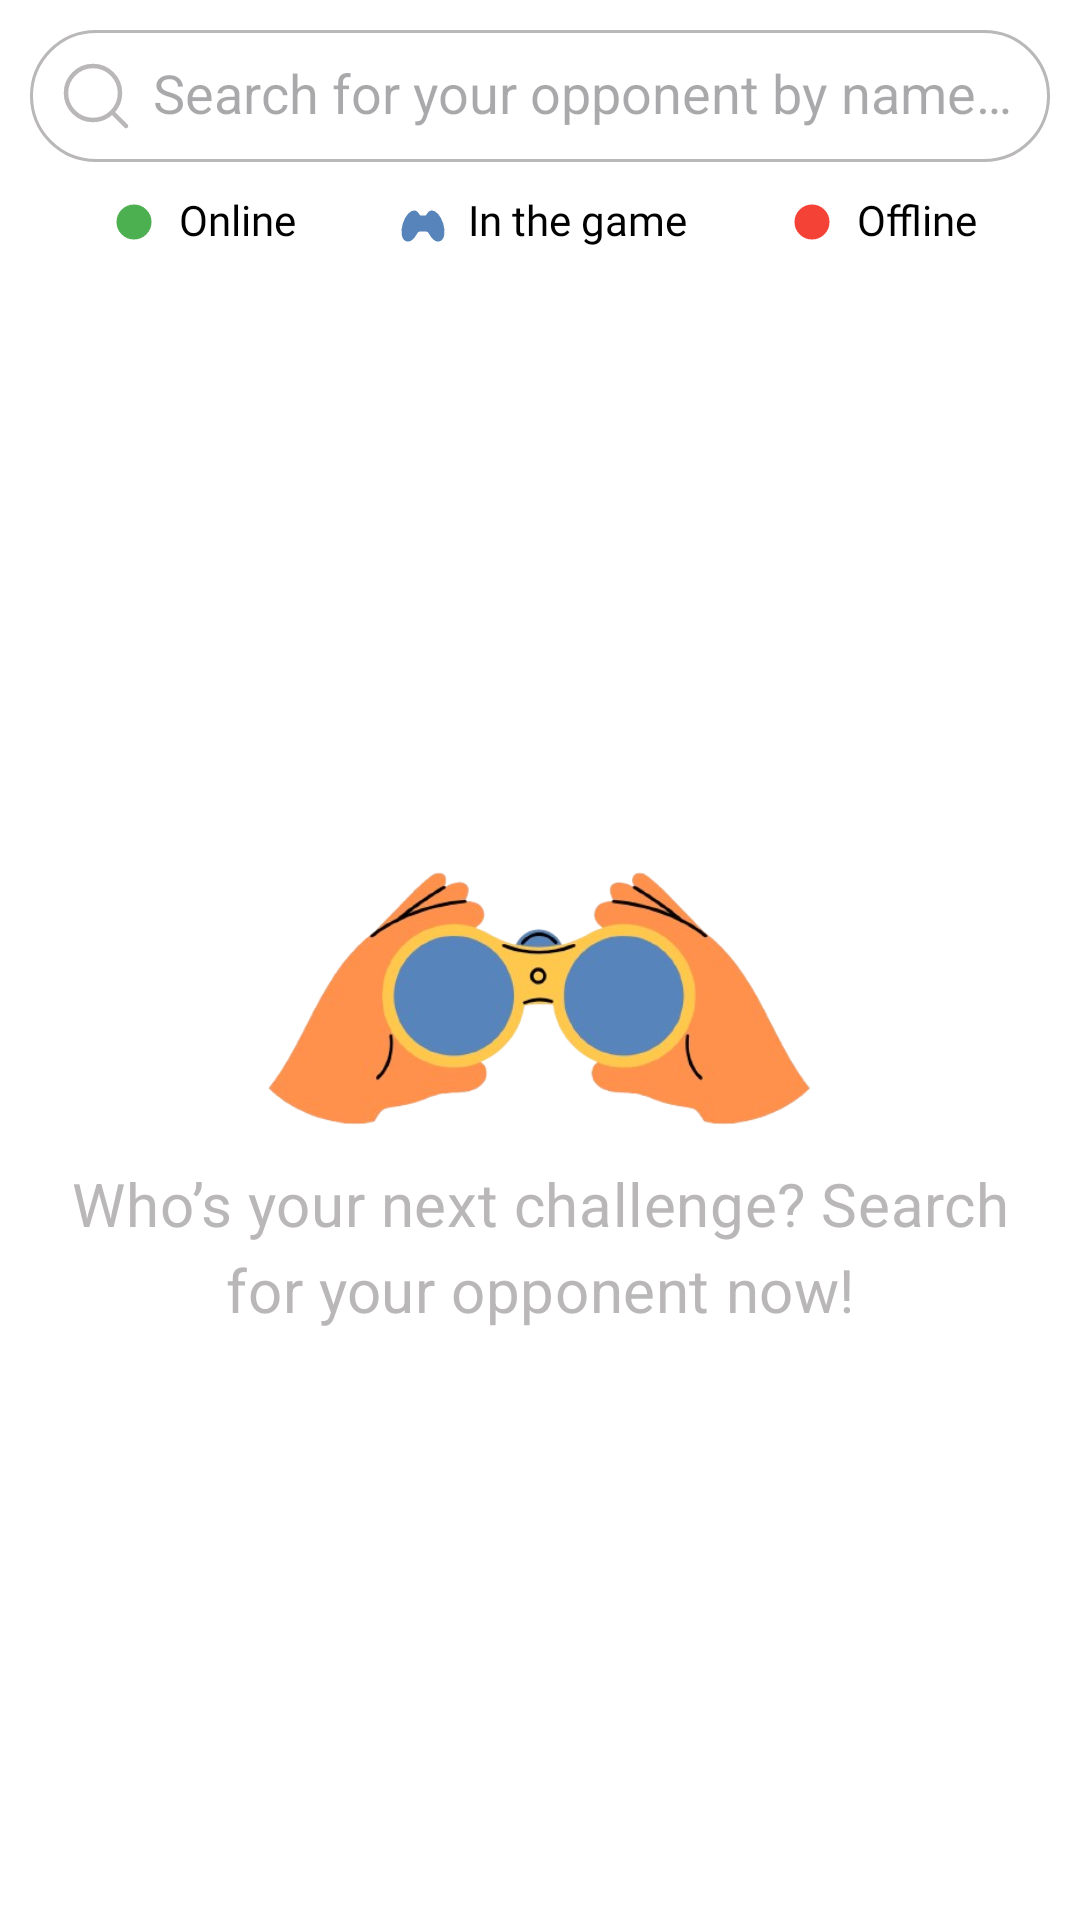

Named icons in this screenshot (1080*1920) and their bounding boxes, [left=x1, top=y1, right=x2, bottom=y2]:
game control: [left=401, top=210, right=445, bottom=242]
